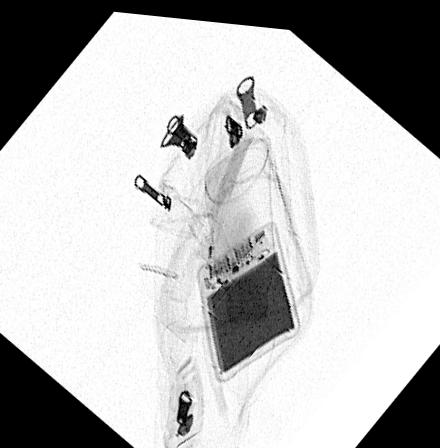Powerbank: (194, 214, 298, 378)
